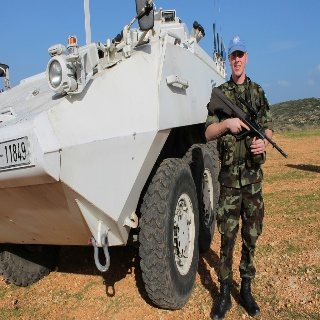rifle: (207, 86, 288, 159)
